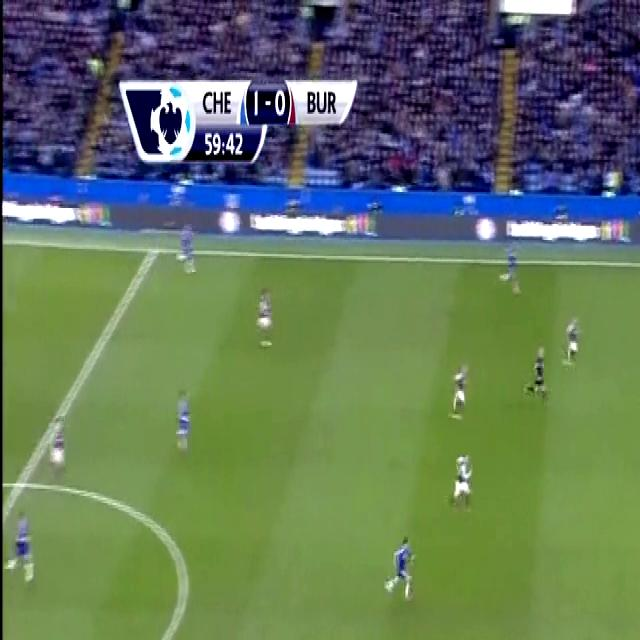soccer-player: (384, 528, 422, 611), (8, 498, 37, 594), (442, 442, 476, 518), (252, 278, 282, 358), (524, 336, 556, 410), (168, 384, 196, 466), (445, 352, 472, 426), (45, 403, 71, 475), (494, 240, 524, 302), (178, 210, 203, 279), (562, 305, 586, 372)
